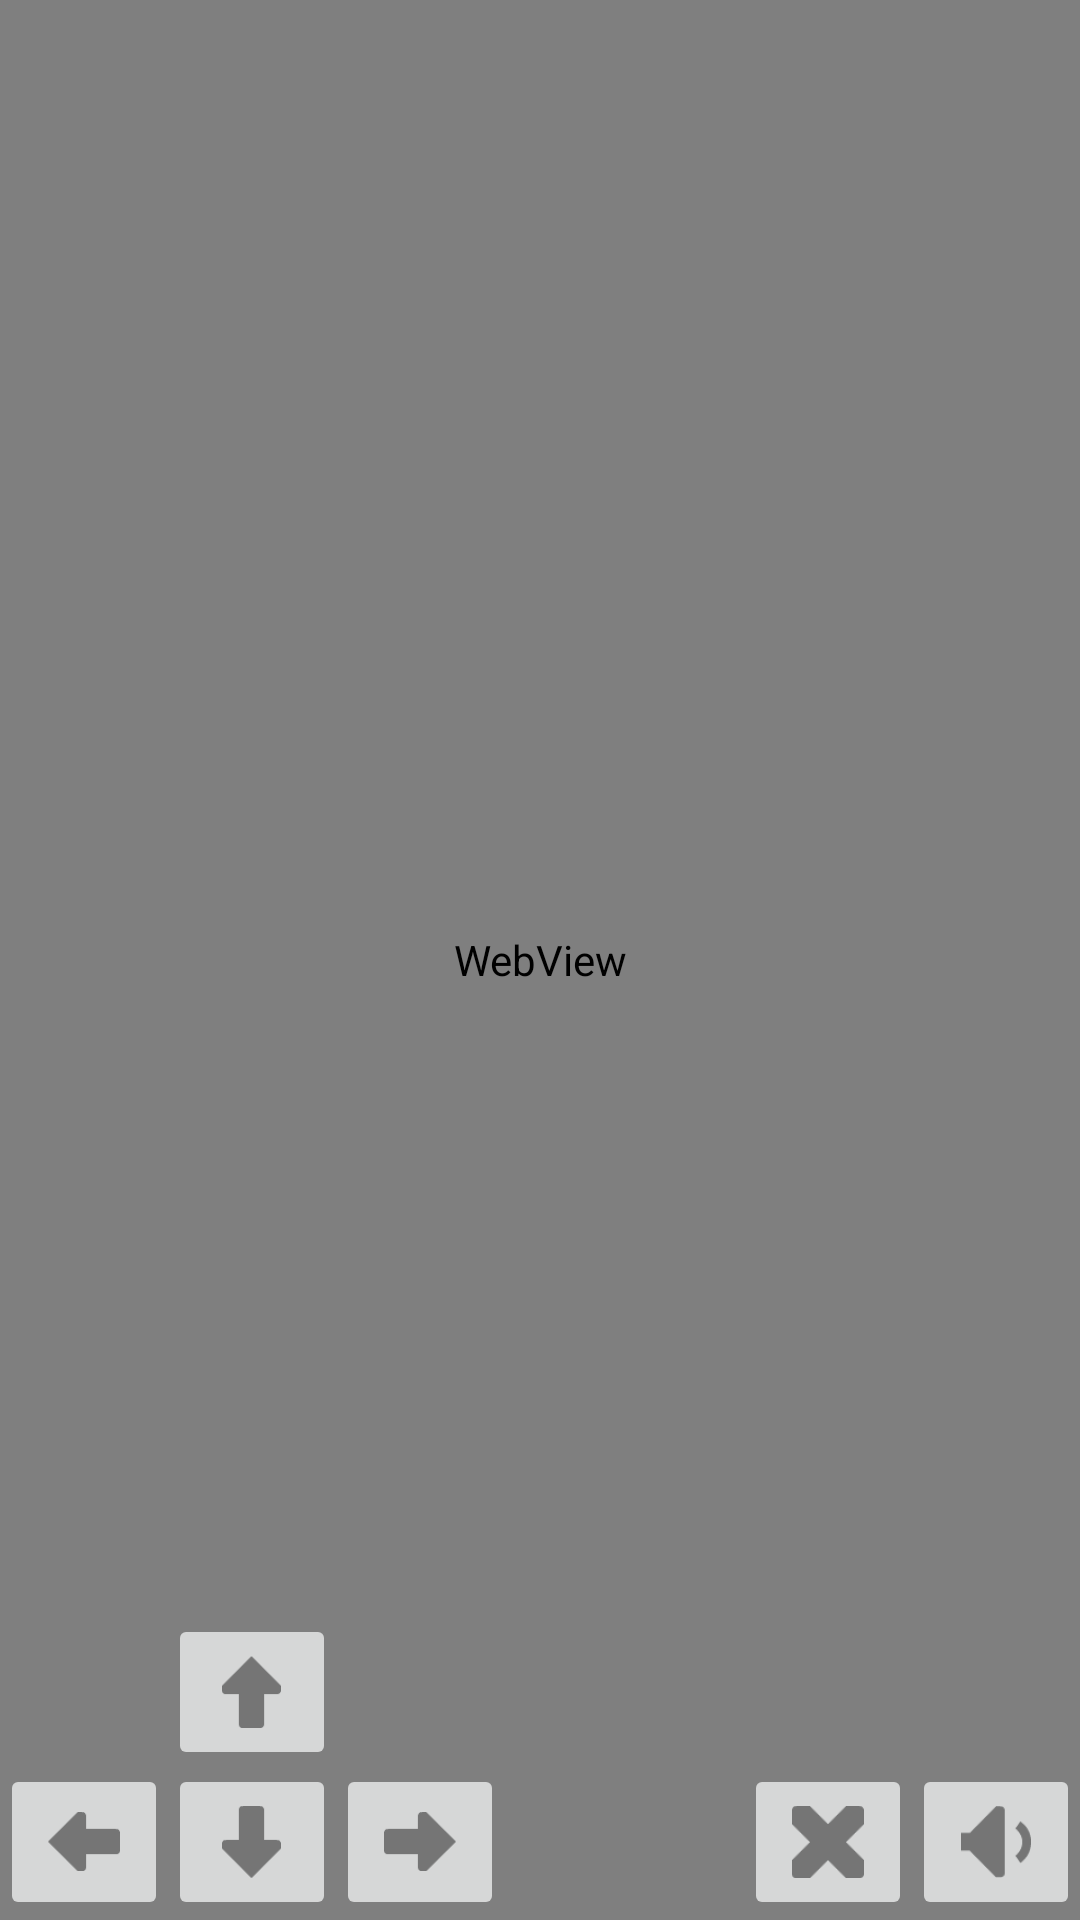

Icon click points for this 1080px×1920px phone screenshot, format point (x, y):
buzzer: point (996, 1842)
down: point (252, 1842)
left: point (84, 1842)
right: point (420, 1842)
stop: point (828, 1842)
